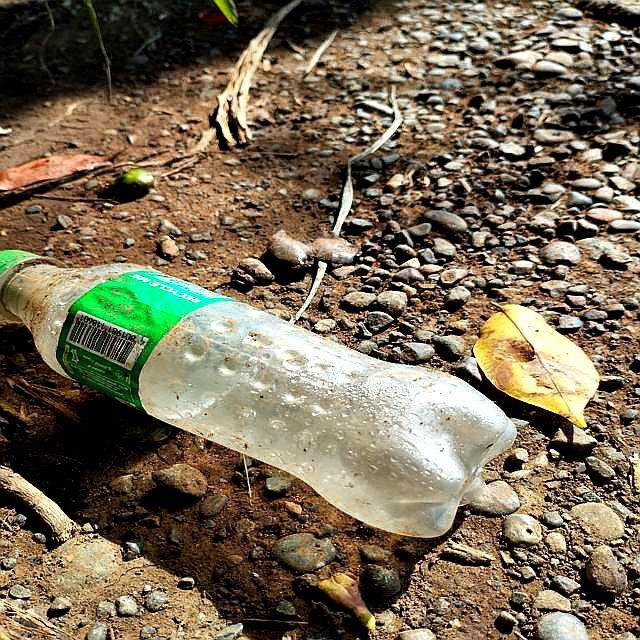Non-biodegradable: (1, 219, 533, 563)
